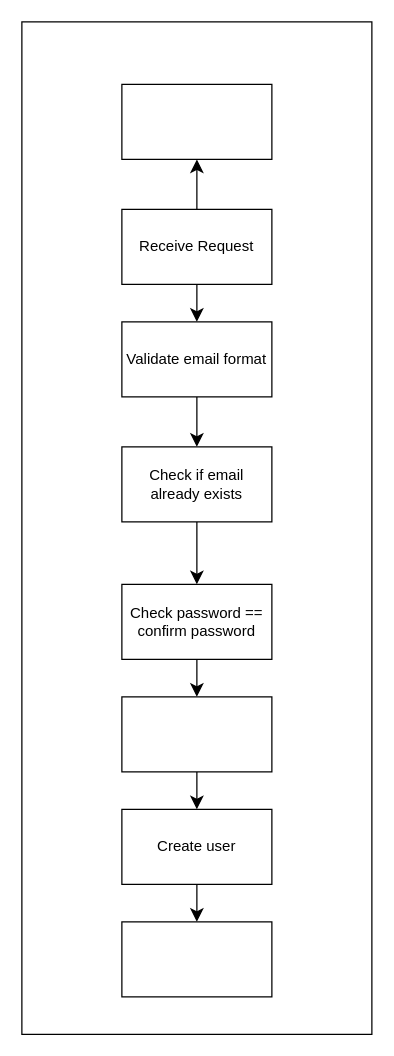
The diagram is 394 pixels wide and 1056 high, and some of its shapes have lost their labels. The shapes that lost their labels are listed below. From the top down, each one's box as (x1, y1, x2, y2) in pixels, then its label:
(121, 83, 272, 159): REGISTRATION_API
(121, 696, 272, 772): Hash Password
(121, 921, 272, 997): Return Success response
